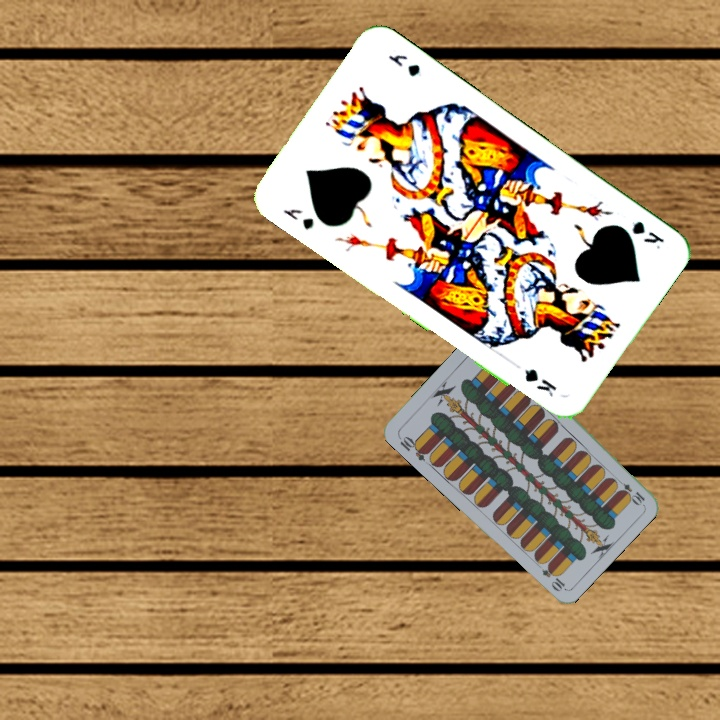E10: (394, 432, 431, 463), (612, 475, 647, 507)
GK: (627, 216, 667, 253), (279, 204, 317, 233)
